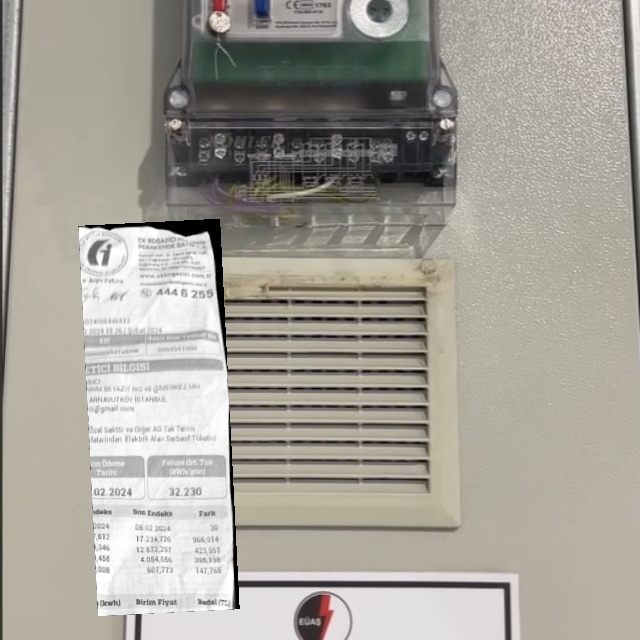electricity-bill: (77, 219, 239, 616)
